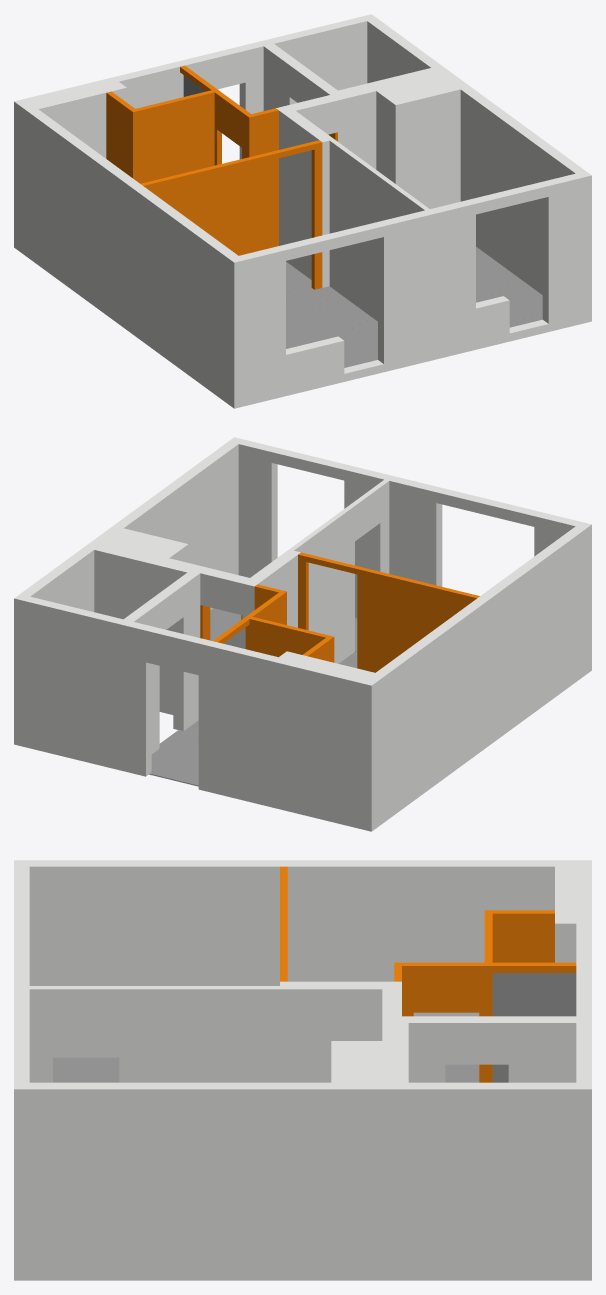
The picture shows the model from 3 angles, top to bottom: view 1: azimuth 30°, elevation 25°; view 2: azimuth 150°, elevation 25°; view 3: azimuth 270°, elevation 25°; orthographic projection. The views are drawn at different scales.
Parts seen in each view (by area): view 1: Body1 (×2), Body2; view 2: Body1 (×2), Body2; view 3: Body1 (×4), Body2.
Part boxes in pixels (left/top/right/bottom): Body1 (×2): left=14, top=14, right=591, bottom=408; Body2: left=106, top=89, right=278, bottom=249; Body1 (×2): left=14, top=437, right=591, bottom=831; Body2: left=245, top=584, right=334, bottom=662; Body1 (×4): left=14, top=860, right=591, bottom=1280; Body2: left=394, top=910, right=554, bottom=1082.
Bounding box in the file's own units: 6.95 × 2.71 × 7.41.
